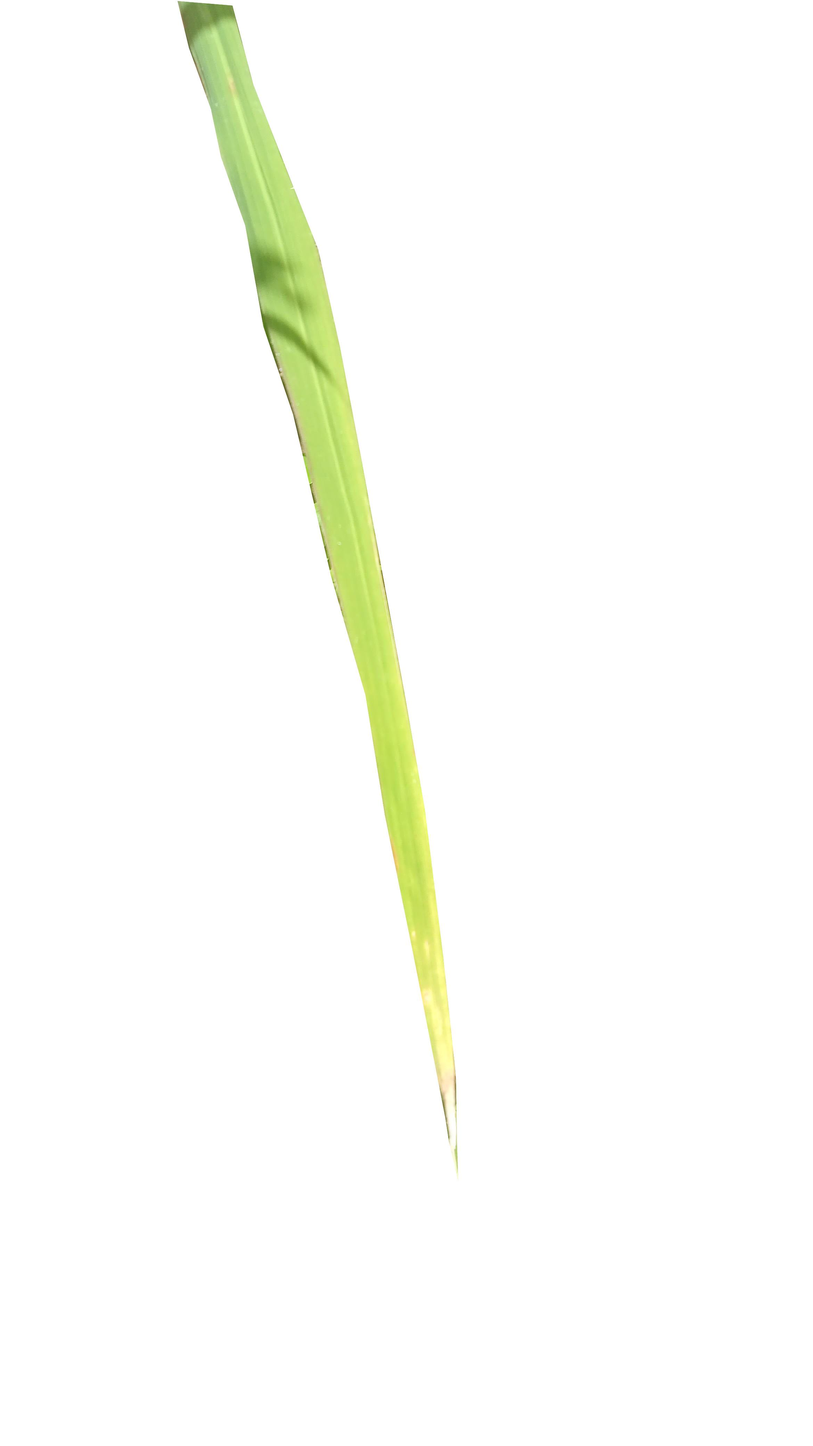Tungro: (192, 37, 449, 1135)
